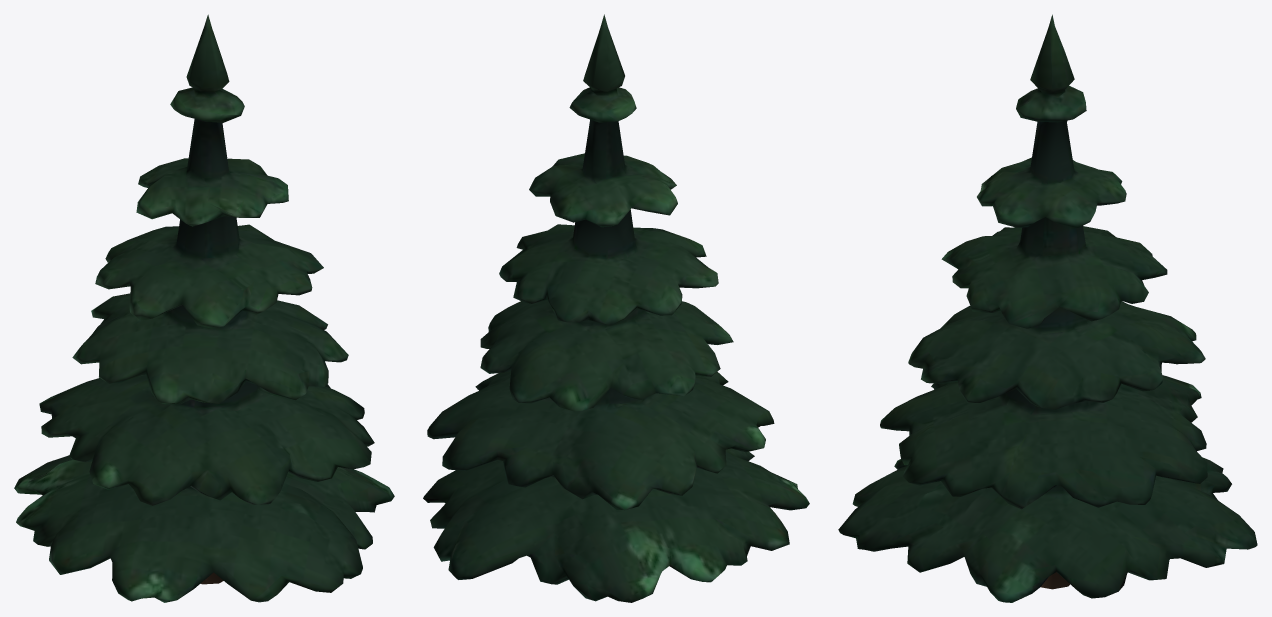
The model's file is pine_b_lod1.glb.
The picture shows the model from 3 angles, left to right: view 1: azimuth 30°, elevation 25°; view 2: azimuth 150°, elevation 25°; view 3: azimuth 270°, elevation 25°; orthographic projection.
Visible parts, largest first — view 1: pine_b_crown1; view 2: pine_b_crown1; view 3: pine_b_crown1.
Part boxes in pixels (left/top/right/bottom): pine_b_crown1: left=14, top=14, right=394, bottom=602; pine_b_crown1: left=423, top=14, right=809, bottom=602; pine_b_crown1: left=838, top=14, right=1257, bottom=602.
Size of the model in its own units: 2.43 by 3.95 by 2.65.
Materials: 2 (2 with a texture image).
